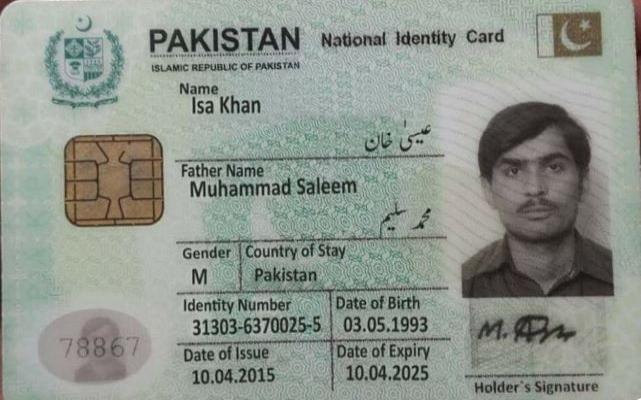fname: (186, 176, 359, 199)
name: (183, 91, 265, 120)
number: (190, 313, 326, 338)
